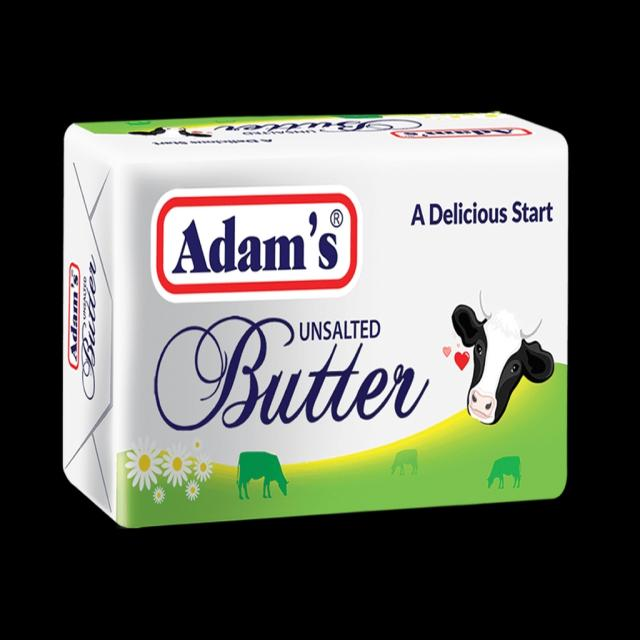butter: (62, 110, 569, 528)
